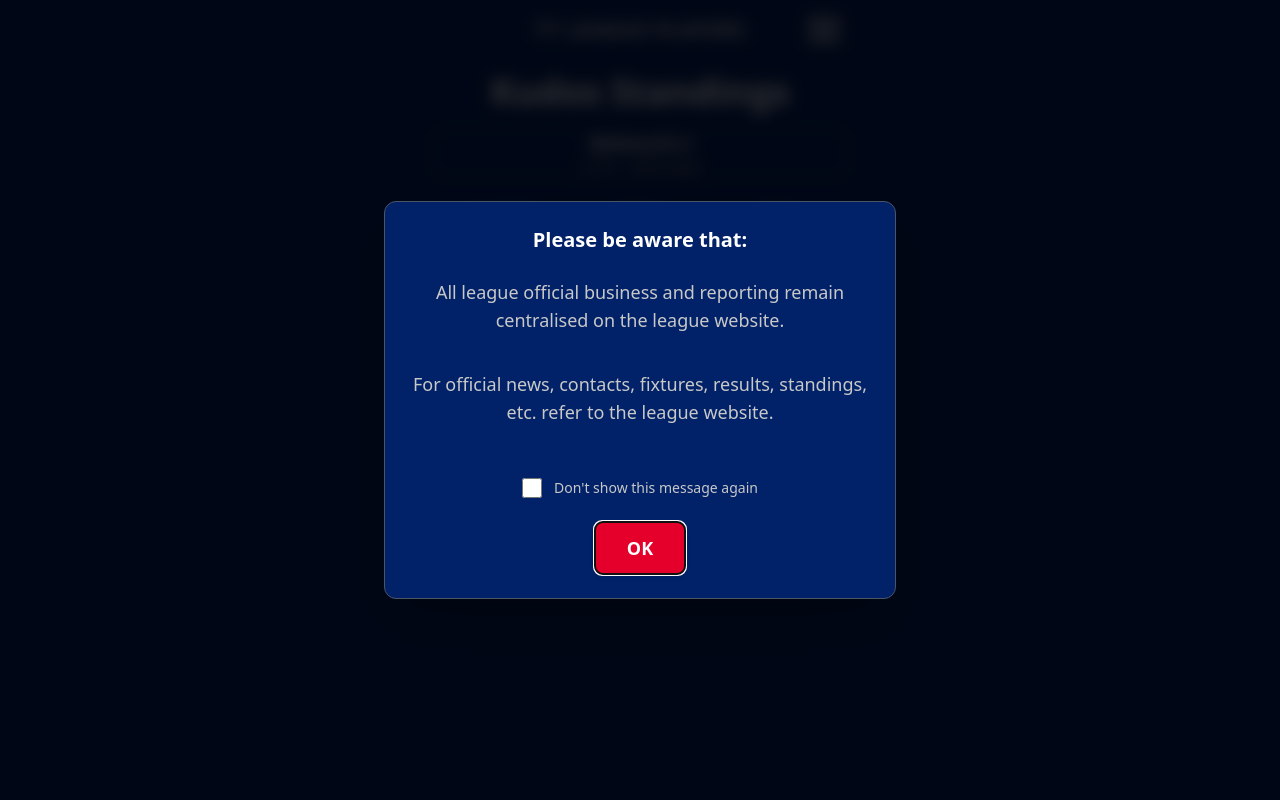
Test: KudosStandings info modal › shows the modal after a successful Awarded load
The image size is (1280, 800).
expect the dialog with test id "standings-website-info-modal" is shown: met, box [384,201,896,599]
Click the button with test id "standings-website-info-modal-ok" at (640, 548), box [595,522,685,574]
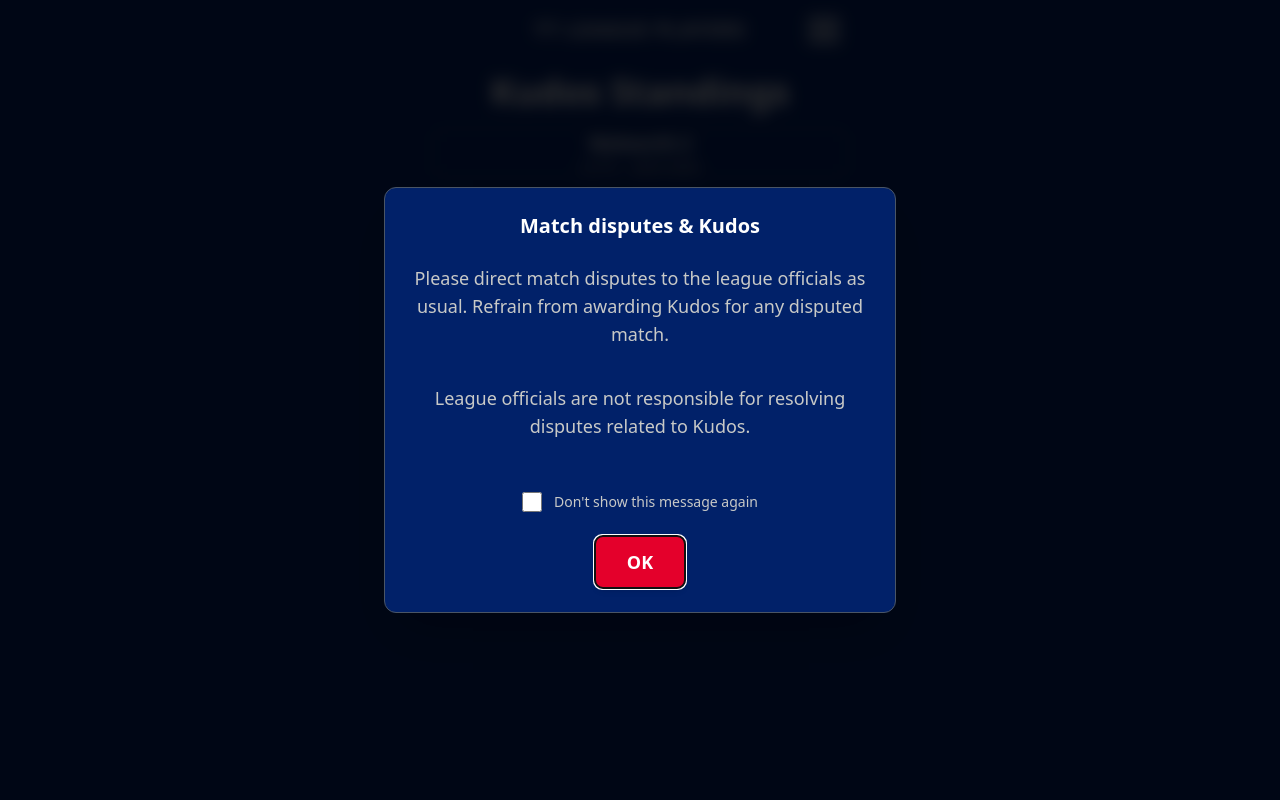
expect the dialog with test id "standings-info-modal" is shown: met, box [384,187,896,613]
